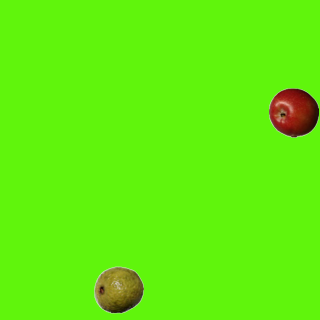Apple Braeburn: (268, 87, 318, 137)
Guava: (93, 264, 143, 314)
